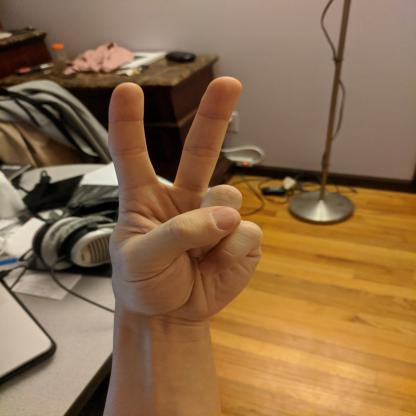V: (100, 73, 269, 326)
